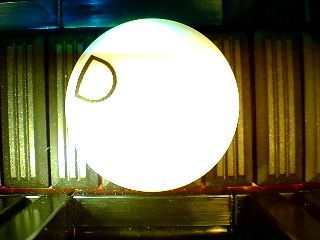MIPO1: (64, 17, 240, 193)
